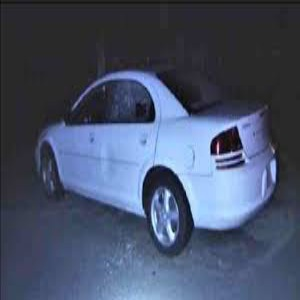door: (90, 141, 123, 181)
